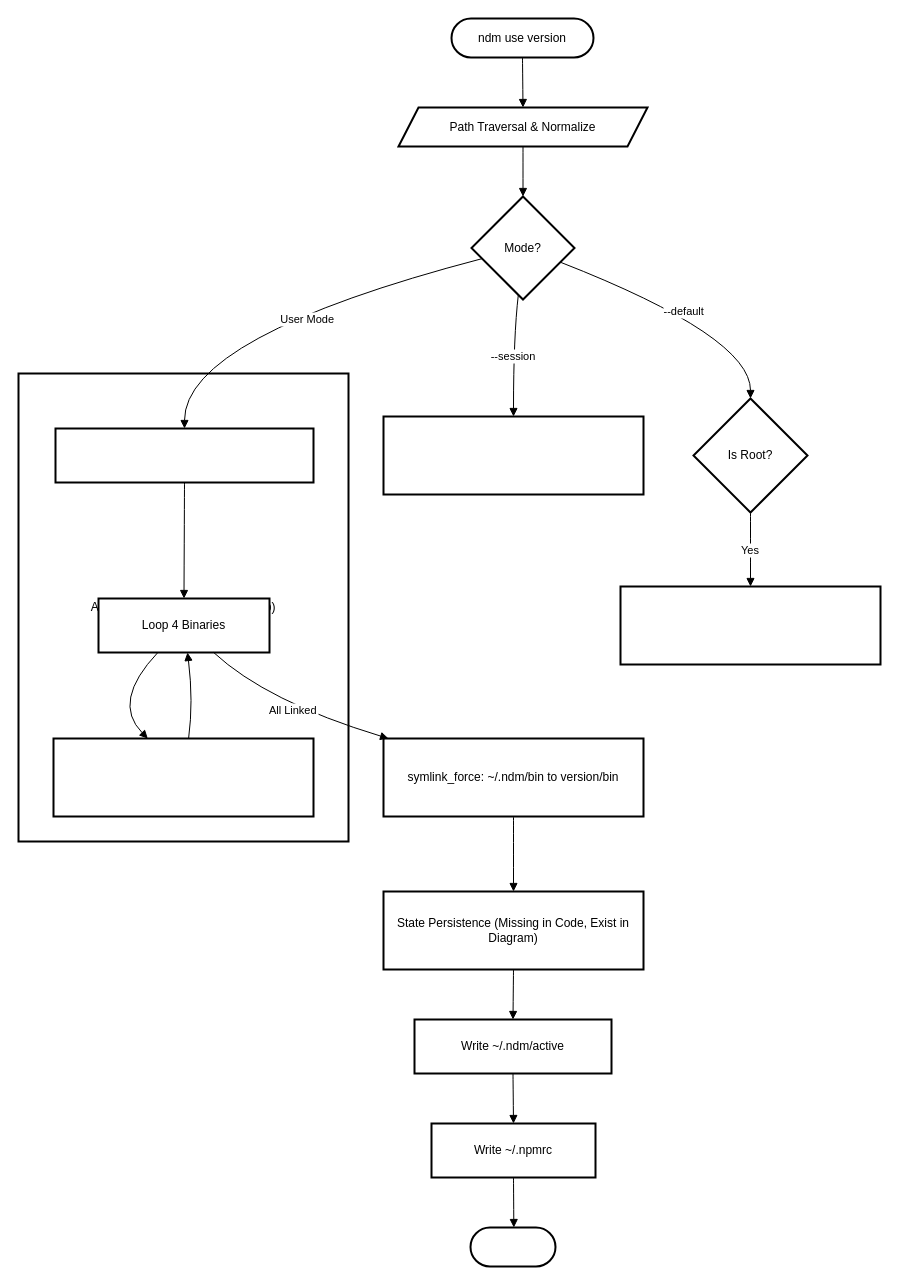
This 898x1284 diagram has some shape labels left out. Here are the shapes that lost their labels. From the top down, the centre of each, then its label:
At (184,455): "mkdir -p: ~/.ndm/version/bin".
At (513,455): "printf: export PATH=... & exit".
At (750,625): "symlink_force: /opt/nodeman/default".
At (183,777): "symlink_force: opt to user_bin".
At (512,1246): "Success".
